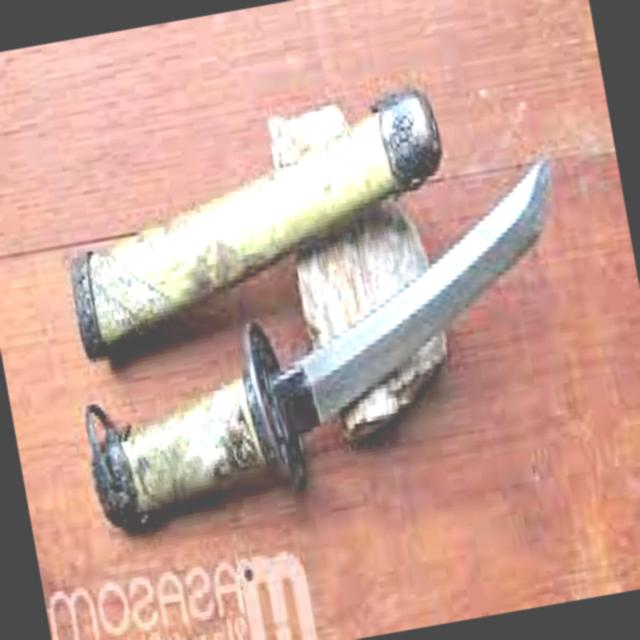short sword: (8, 39, 616, 548)
